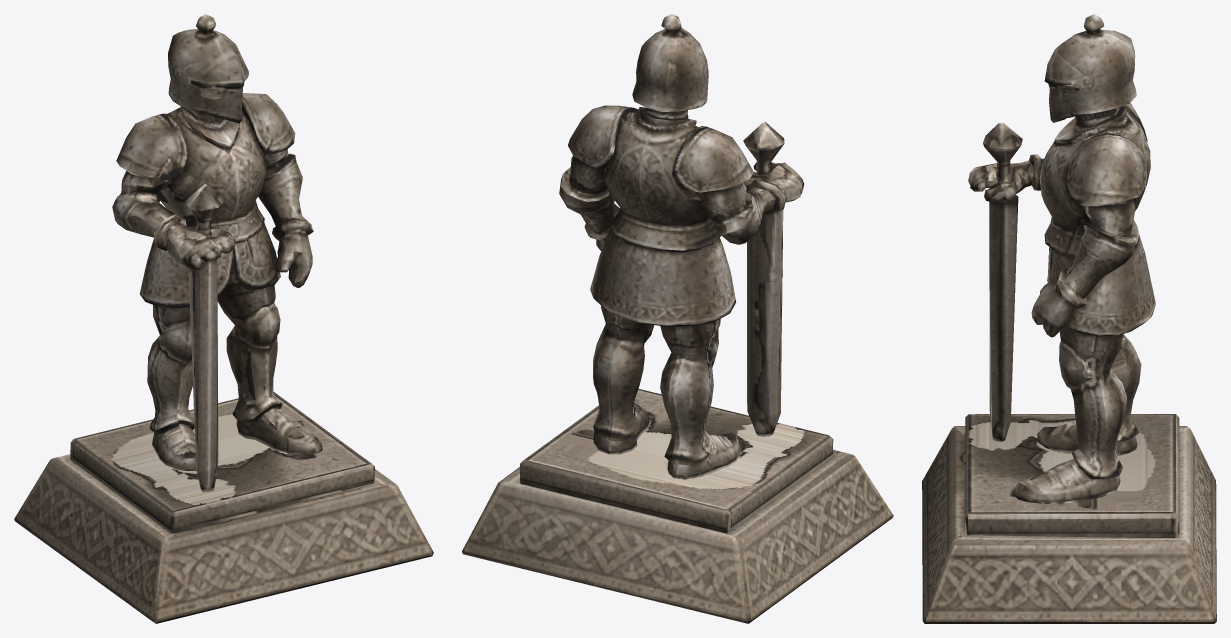
The model's file is item_7item261.glb.
3 renders of one model, left to right at view 1: azimuth 30°, elevation 25°; view 2: azimuth 150°, elevation 25°; view 3: azimuth 270°, elevation 25°, orthographic. The views are drawn at different scales.
Parts seen in each view (by area): view 1: sculpture_7item261; view 2: sculpture_7item261; view 3: sculpture_7item261.
Boxes of the visible parts, x1,y1,x2,y2 form: sculpture_7item261: (14, 14, 433, 623); sculpture_7item261: (462, 14, 893, 623); sculpture_7item261: (922, 14, 1216, 623).
Size of the model in its own units: 0.568 by 1 by 0.4976.
1 material, 1 textured.
